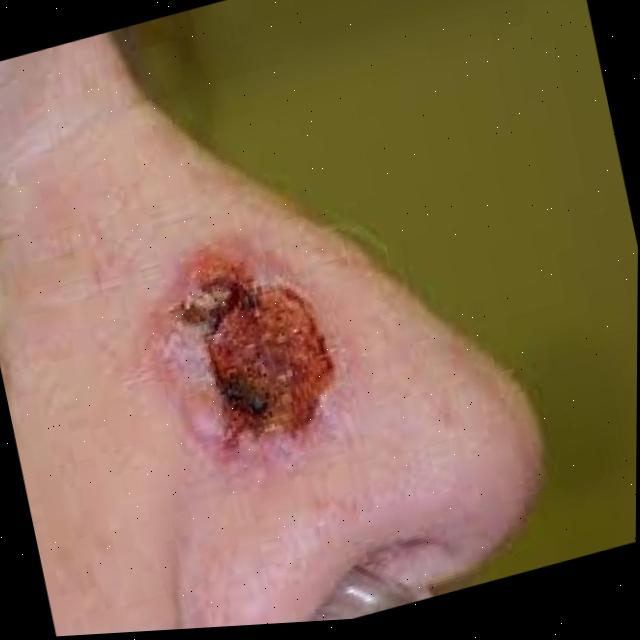Eczema: (130, 239, 351, 485)
